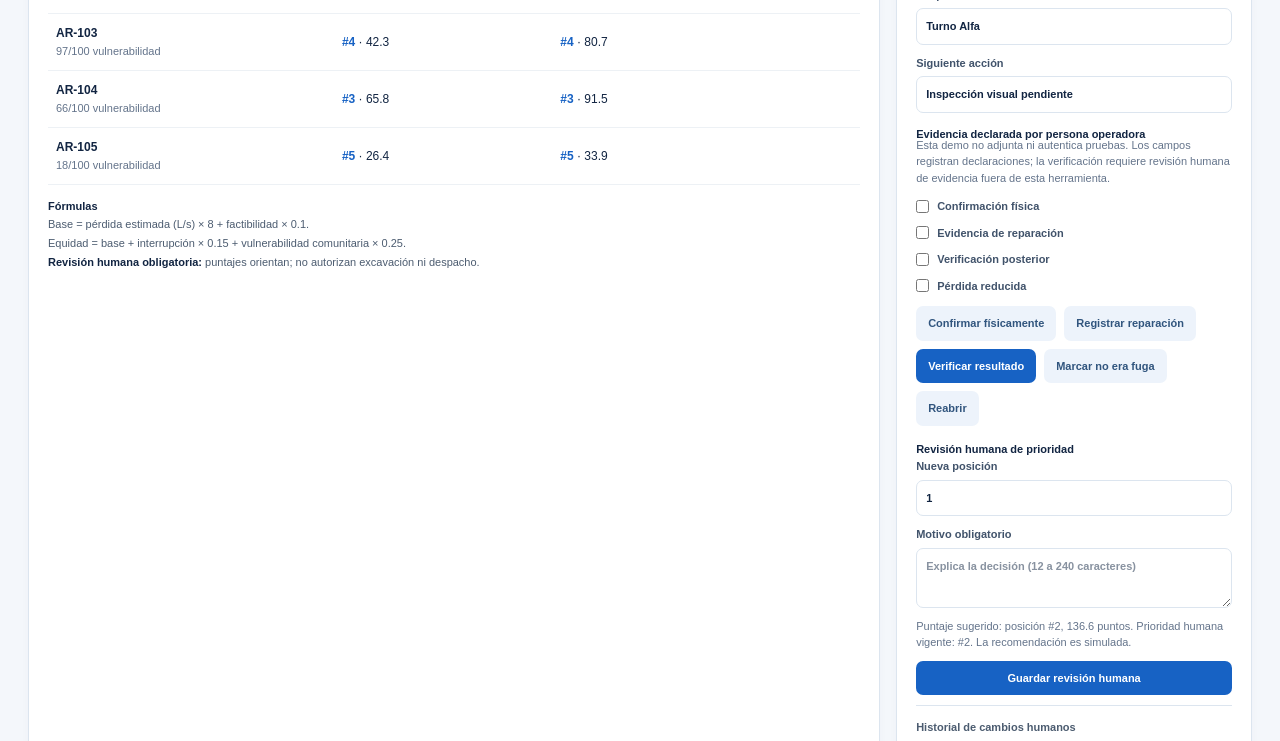
it: AquaRail operator screen › blocks and records an attempted false-success transition
This screenshot has width=1280, height=741.
(page scrolled)
Click the button "Verificar resultado" at (976, 366), box top-left (916, 348), bottom-right (1036, 383)
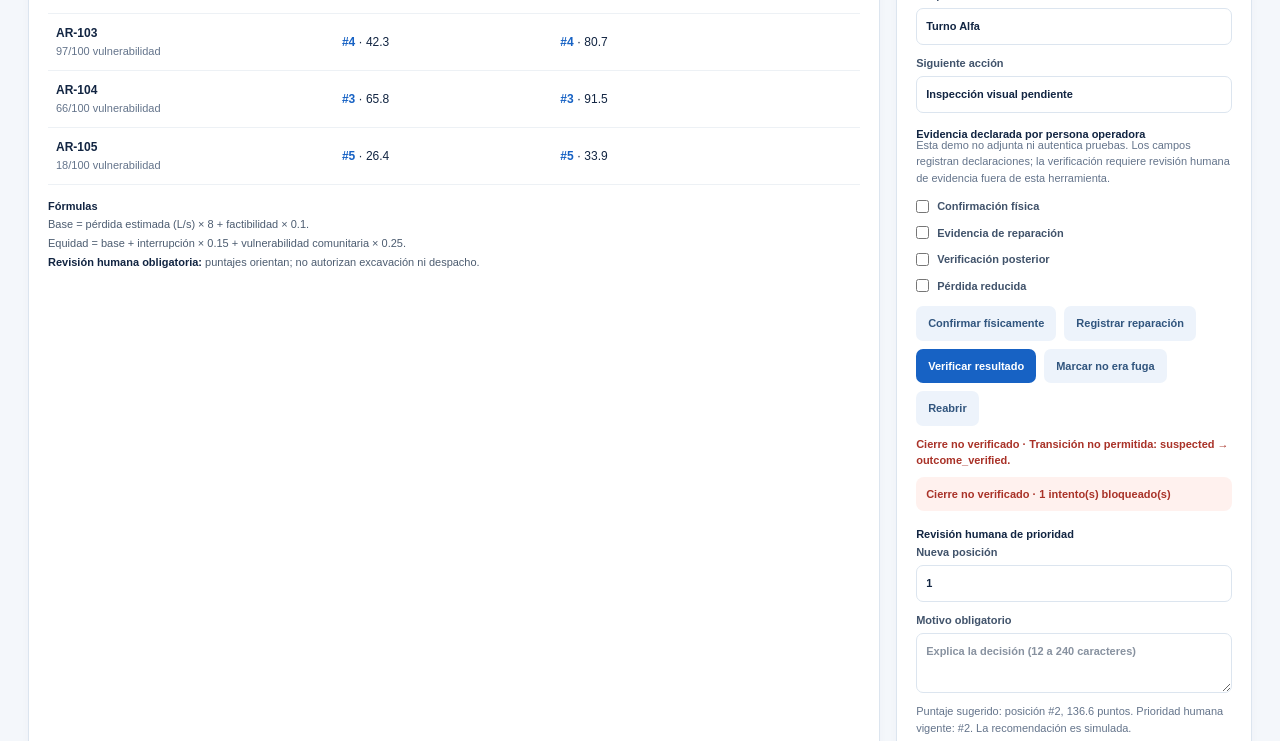
Expected: the message shows "Cierre no verificado", top-left (916, 438), bottom-right (1029, 450)
Expected: the text "Cierre no verificado · 1 intento(s) bloqueado(s)" is shown, top-left (916, 476), bottom-right (1232, 511)
